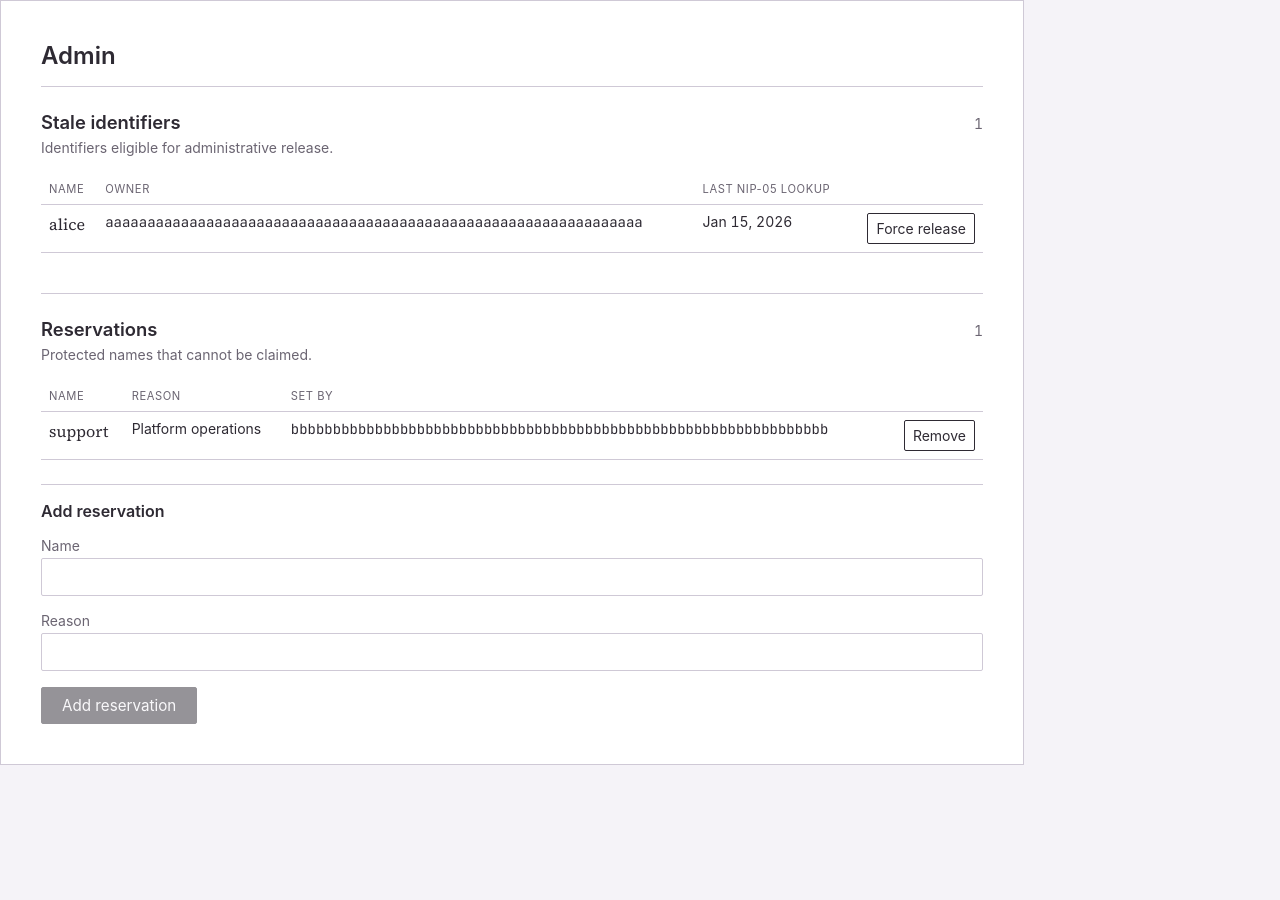
Scenario: admin reservation creation › guards a pending create against double submit and finalizes malformed responses
This screenshot has width=1280, height=900.
Type "new-name" into the field labelled "Name" at [512, 577], box [41,558,983,596]
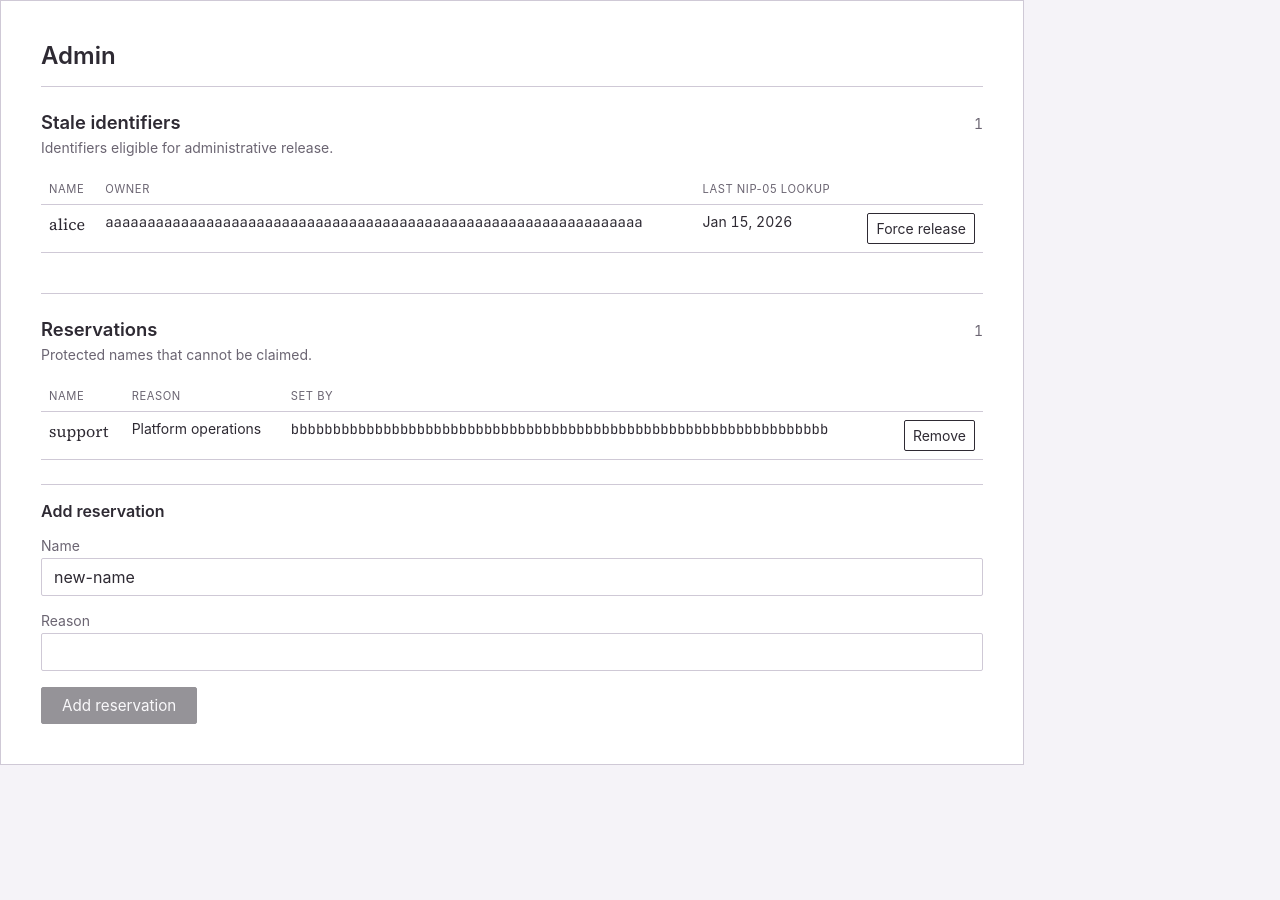
Type "  Staff use  " into the field labelled "Reason" at [512, 652], box [41,633,983,671]
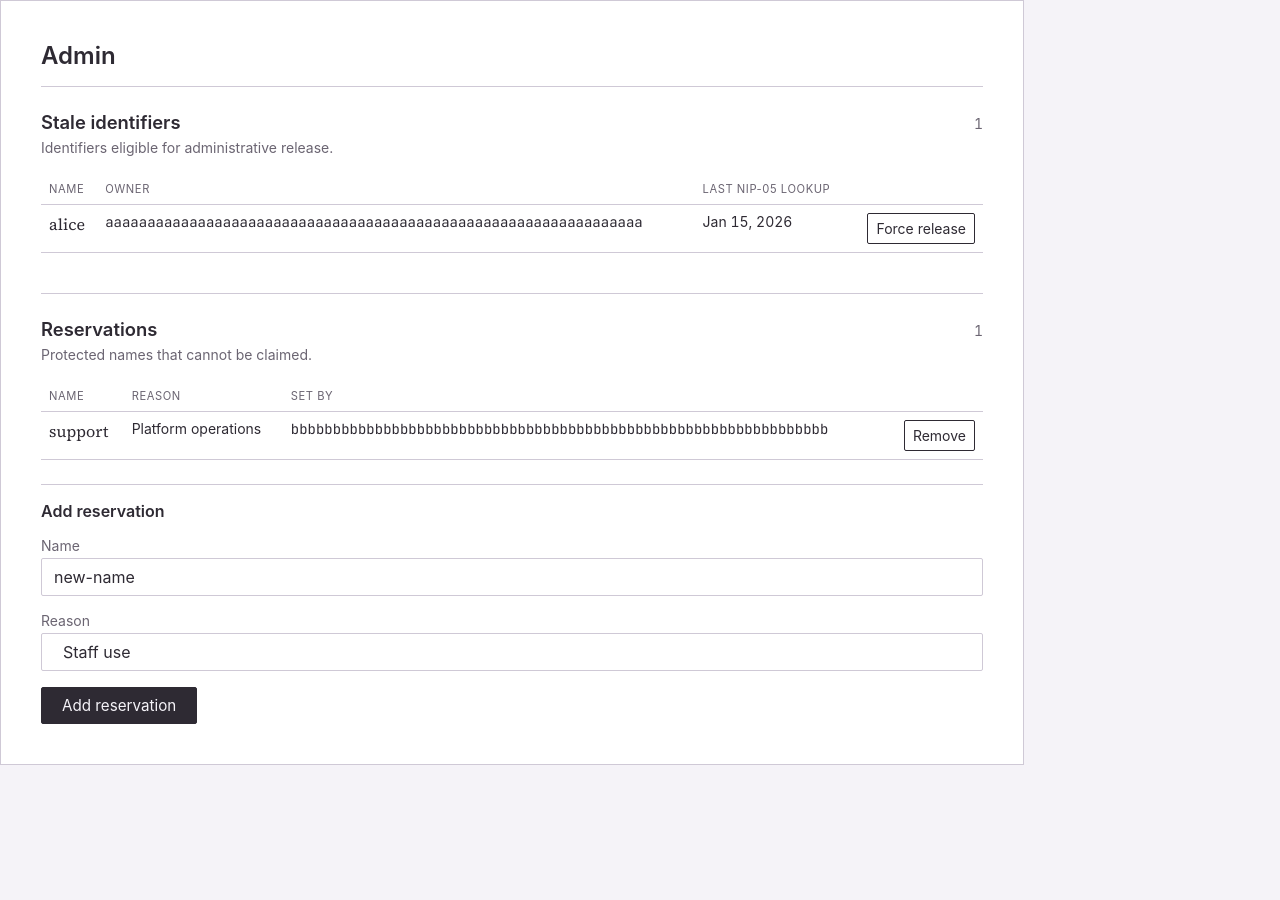
Click the button "Add reservation" at [119, 706], box [41,687,197,724]
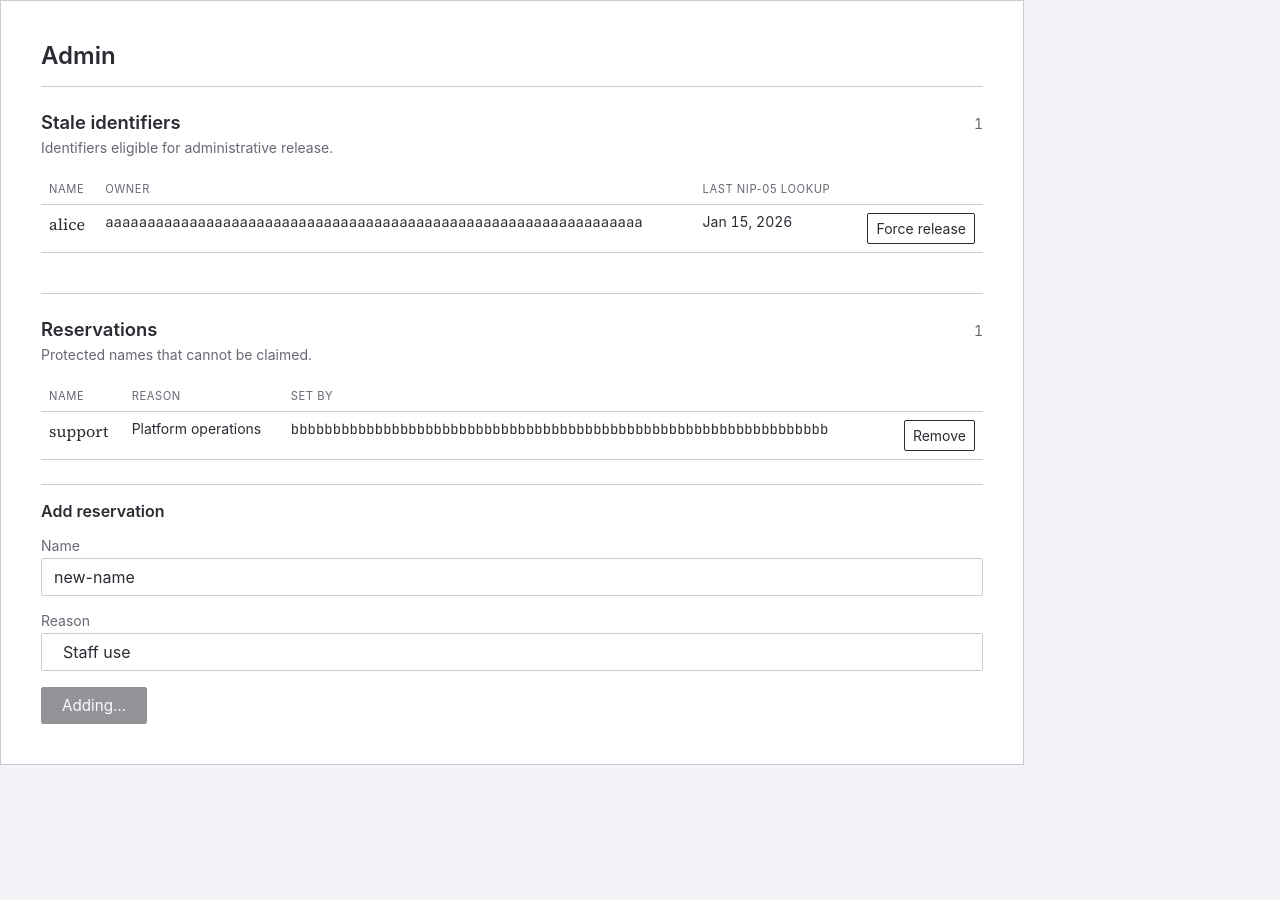
Expected: the button "Adding…" is disabled
Click the button "Adding…" at [94, 706], box [41,687,147,724]
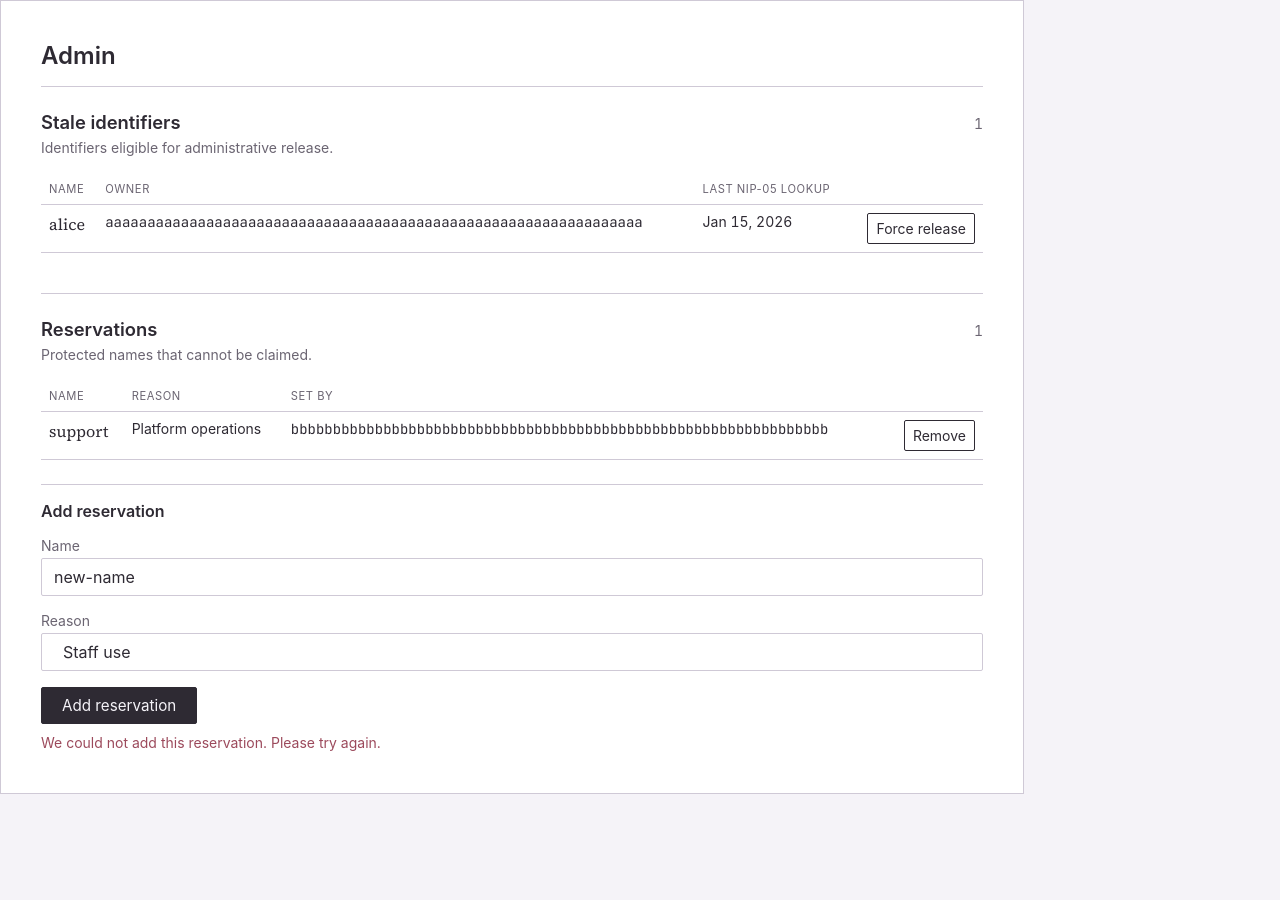
Expected: the text "We could not add" is shown, [41,734,381,751]
Expected: the button "Add reservation" is enabled, [41,687,197,724]
Expected: the text "We could not add this reservation. Please try again." is shown, [41,734,381,751]
